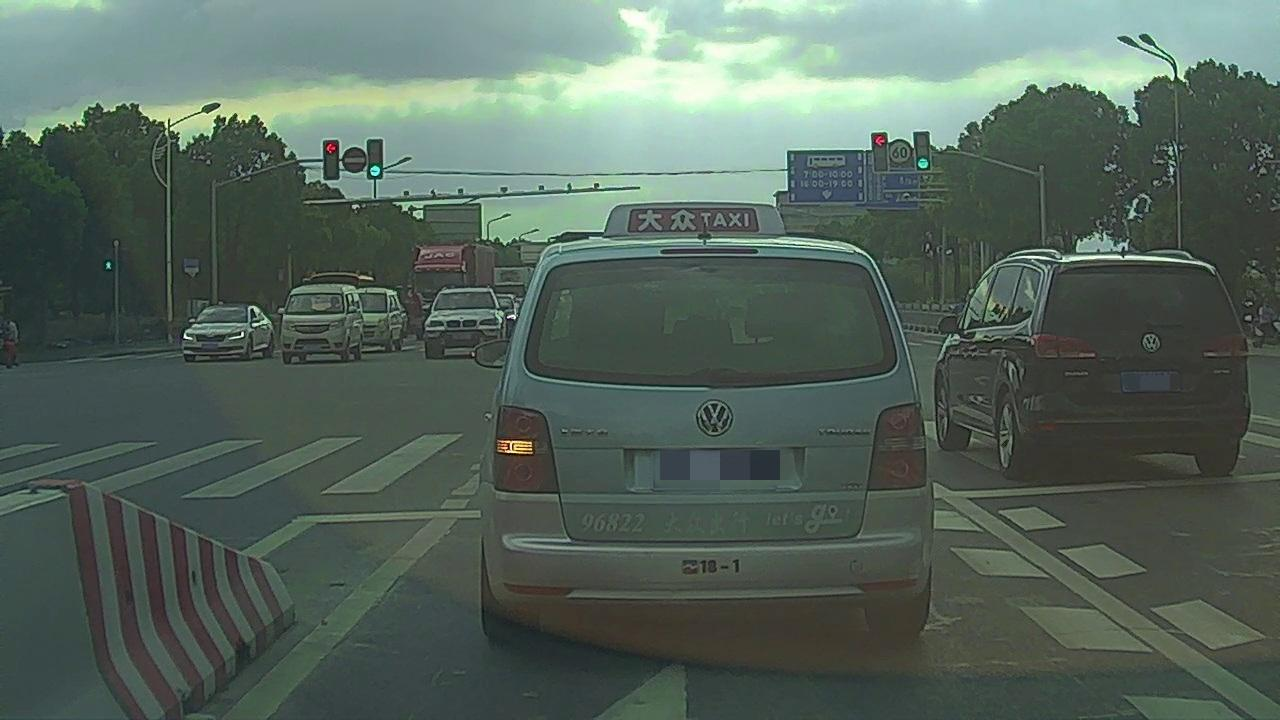traffic_light: (365, 139, 383, 180), (321, 139, 338, 181), (912, 131, 930, 170), (870, 132, 887, 171)
